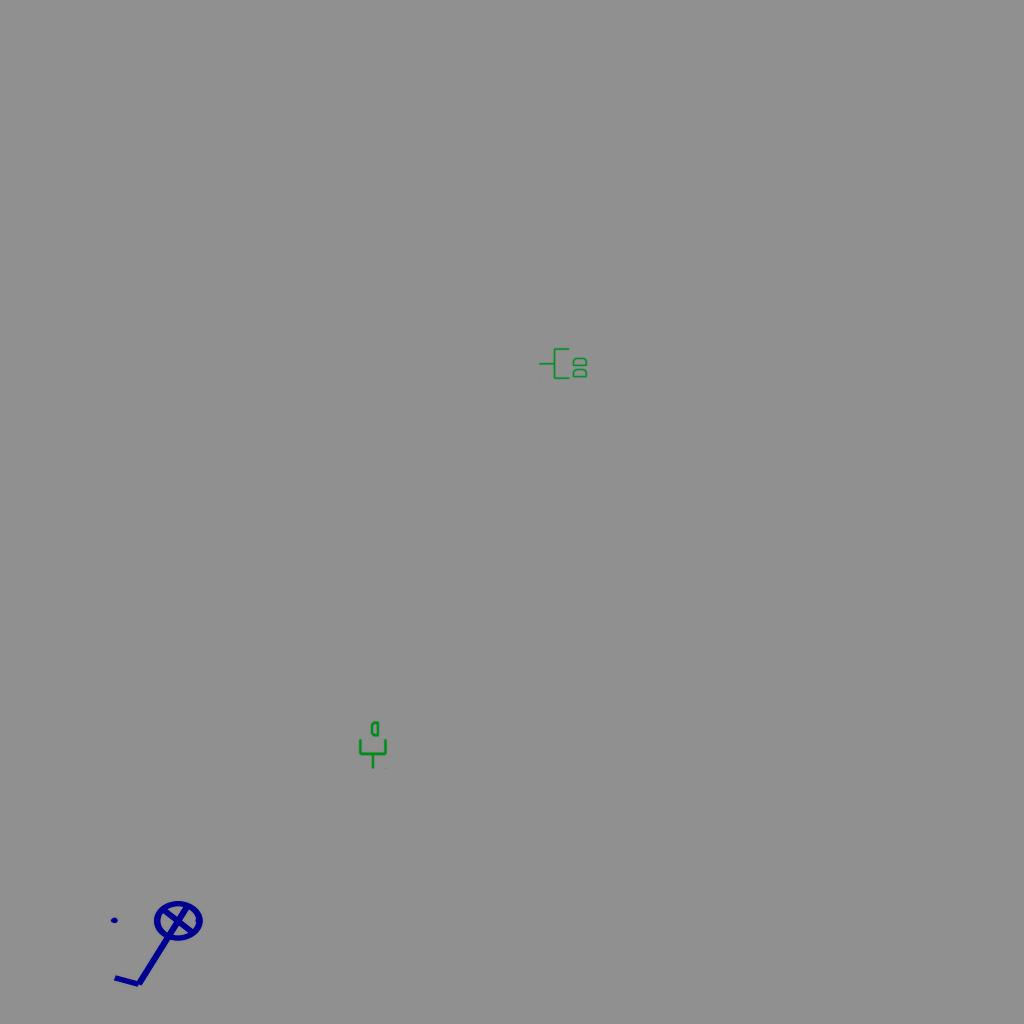Ausschalter_beleuchtet: (105, 899, 217, 995)
Datenanschluss_einfach: (355, 720, 389, 770)
Datenanschluss_zweifach: (538, 347, 589, 381)
